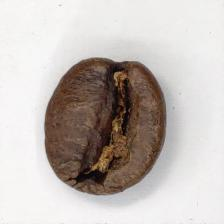NG: (70, 63, 133, 190)
